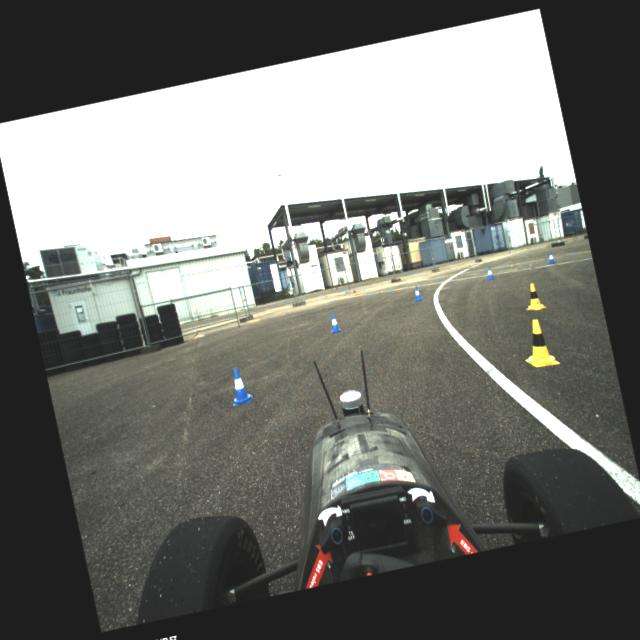blue_cone: (226, 364, 253, 406), (327, 312, 341, 334), (412, 284, 422, 301), (484, 266, 494, 280), (546, 250, 556, 264)
yellow_cone: (518, 316, 560, 370), (520, 280, 546, 312)
